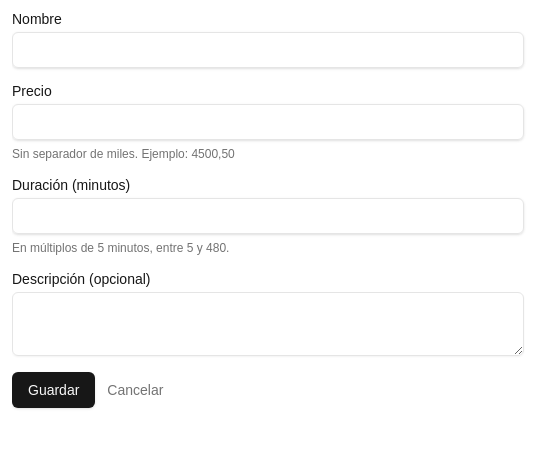
Test case: ServiceForm — field errors and focus › should_render_the_price_error_on_its_own_control
Type "Corte Clásico" into the field labelled "Nombre".
click(268, 50); type("Corte Clásico")  # box [12, 32, 524, 68]
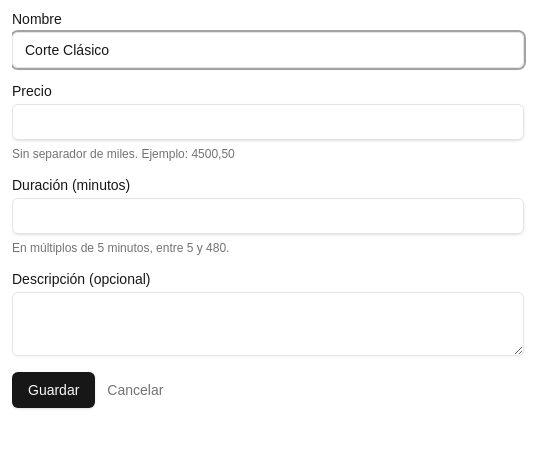
Type "4500,50" into the field labelled "Precio".
click(268, 122); type("4500,50")  # box [12, 104, 524, 140]
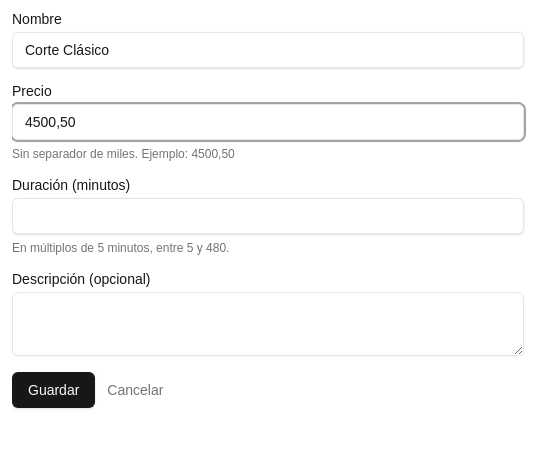
Type "30" into the field labelled "Duración (minutos)".
click(268, 216); type("30")  # box [12, 198, 524, 234]
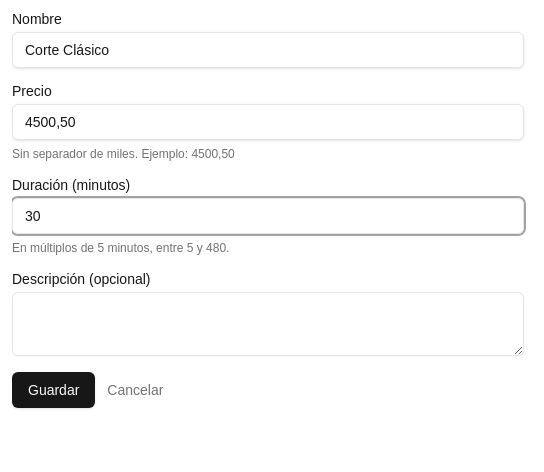
Type "Corte con máquina y tijera" into the text box labelled "Descripción (opcional)".
click(268, 324); type("Corte con máquina y tijera")  # box [12, 292, 524, 356]
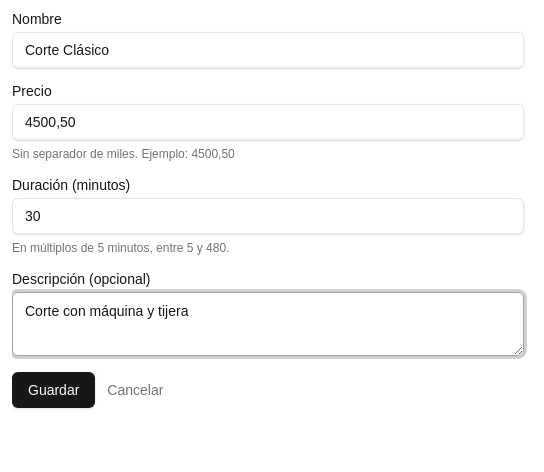
Click the button "Guardar".
click(54, 390)  # box [12, 372, 95, 408]
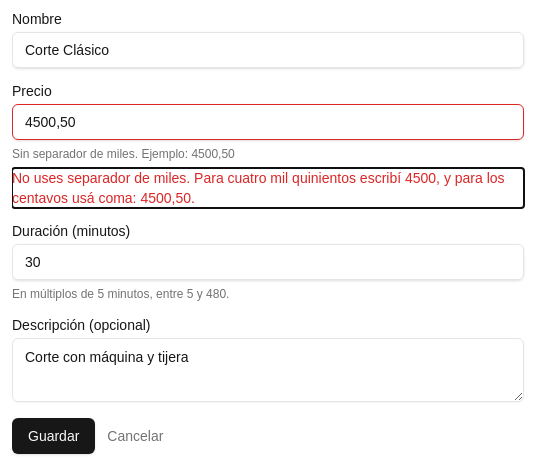
Expected: the message shows "No uses separador de miles. Para cuatro mil quinientos escribí 4500, y para los centavos usá coma: 4500,50.", [12, 170, 505, 206]
